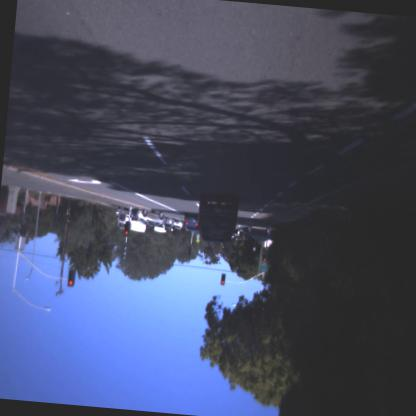trafficlight: (65, 266, 80, 288), (122, 216, 134, 240), (262, 248, 269, 265), (220, 272, 227, 288)
